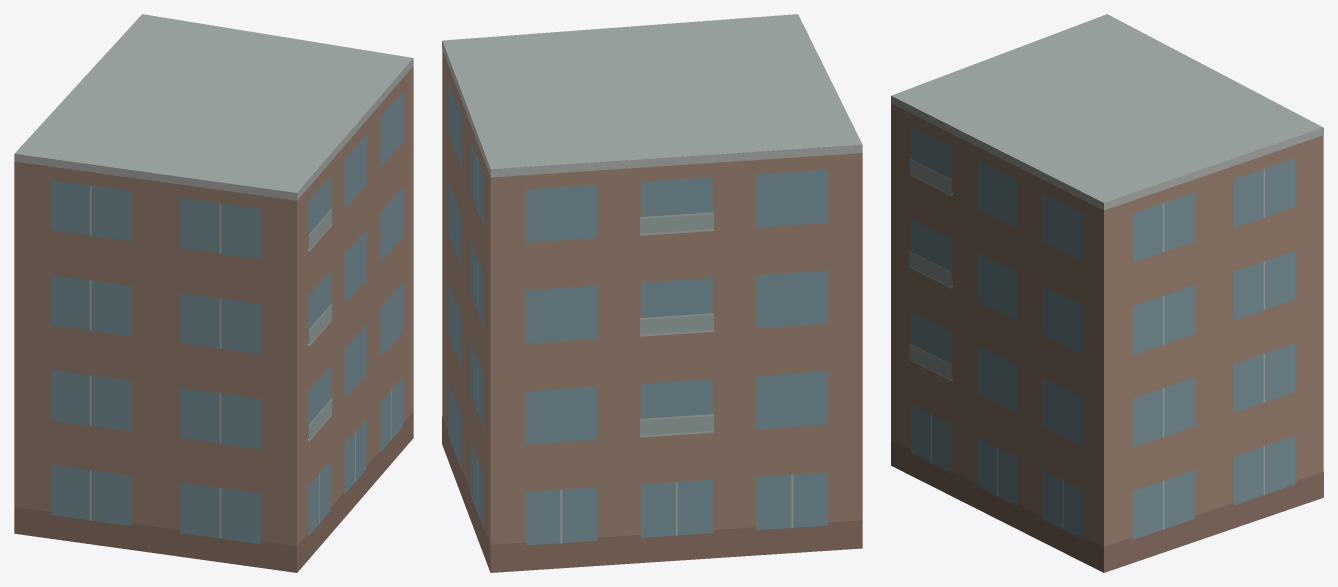
The model's file is survey-upis-32786474.glb.
The picture shows the model from 3 angles, left to right: view 1: azimuth 30°, elevation 25°; view 2: azimuth 150°, elevation 25°; view 3: azimuth 270°, elevation 25°; orthographic projection. The views are drawn at different scales.
Visible parts, largest first — view 1: survey-upis-32786474.tmp; view 2: survey-upis-32786474.tmp; view 3: survey-upis-32786474.tmp.
Boxes of the visible parts, x1,y1,x2,y2 form: survey-upis-32786474.tmp: (14,14,413,572); survey-upis-32786474.tmp: (442,14,862,572); survey-upis-32786474.tmp: (891,14,1323,572).
Size of the model in its own units: 13.15 by 12 by 12.73.
